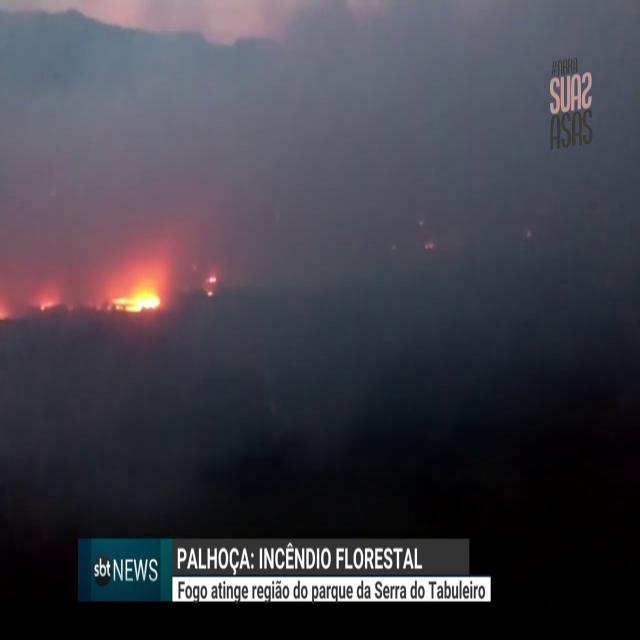Fire: (109, 290, 159, 314), (38, 298, 58, 313), (206, 272, 217, 299)
Smoke: (3, 7, 634, 395)
